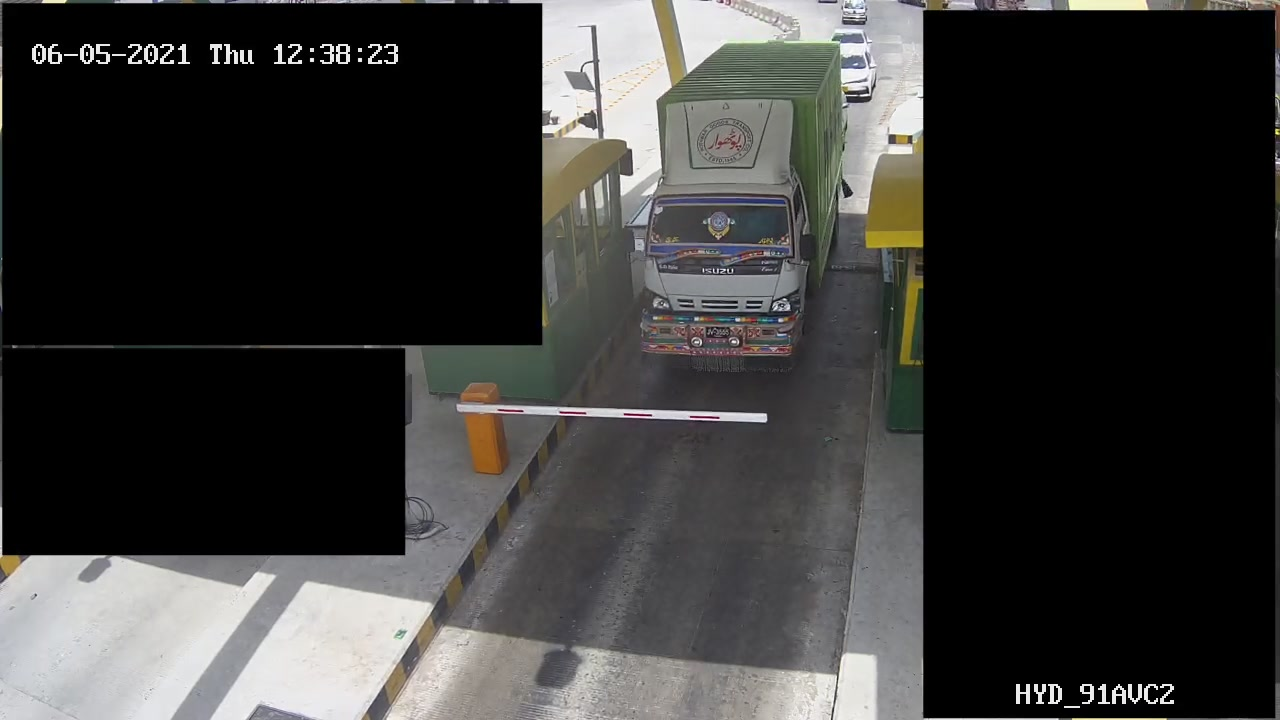F5: (632, 36, 852, 384)
